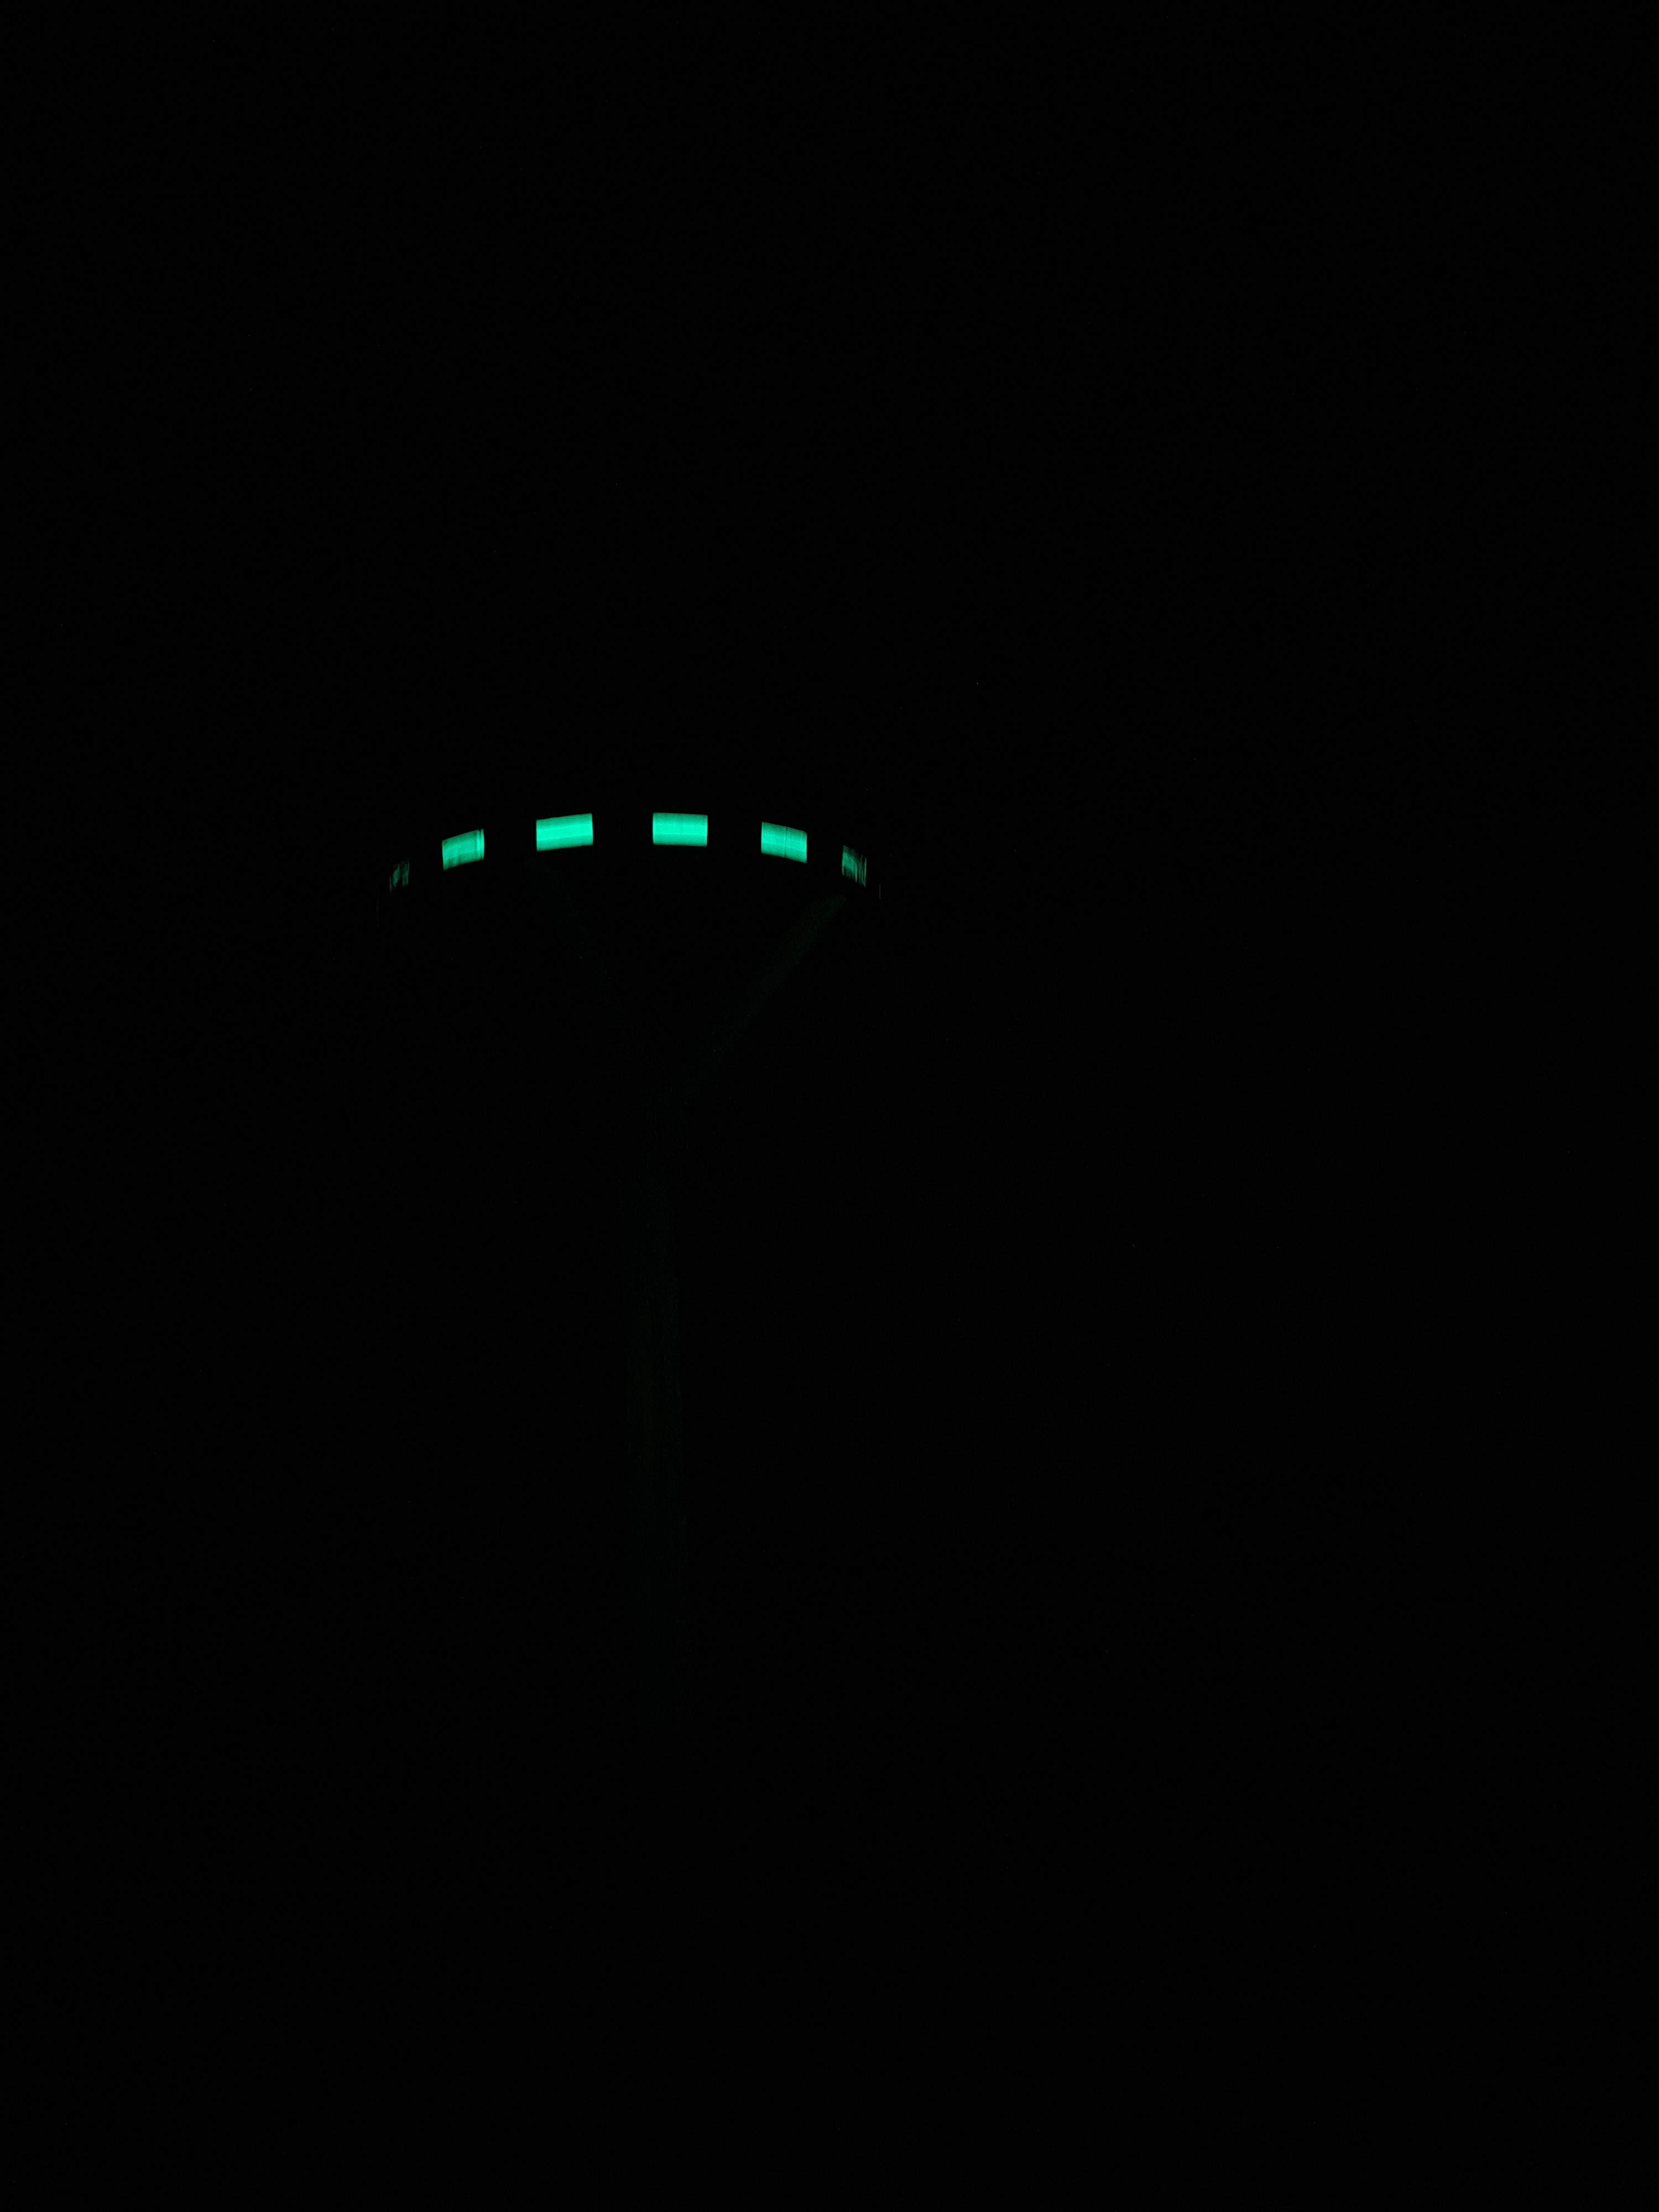hoop: (378, 803, 873, 897)
